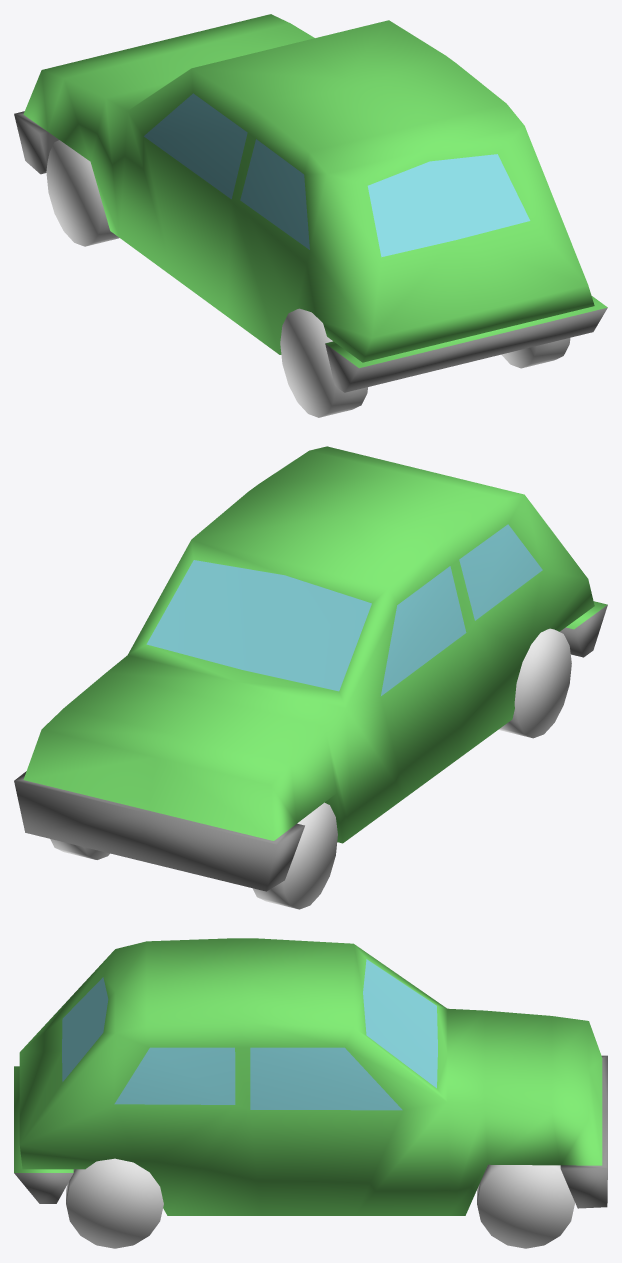
The model's file is car.gltf.
3 renders of one model, top to bottom at view 1: azimuth 30°, elevation 25°; view 2: azimuth 150°, elevation 25°; view 3: azimuth 270°, elevation 25°, orthographic. The views are drawn at different scales.
Visible parts, largest first — view 1: 0-base, 3-back-left-wheel, 1-front-left-wheel, 4-back-right-wheel; view 2: 0-base, 3-back-left-wheel, 1-front-left-wheel; view 3: 0-base, 4-back-right-wheel, 2-front-right-wheel.
Part boxes in pixels (x1,y1,x2,y2): 0-base: [14, 14, 607, 392]; 3-back-left-wheel: [280, 308, 367, 417]; 1-front-left-wheel: [46, 140, 119, 246]; 4-back-right-wheel: [501, 338, 570, 368]; 0-base: [14, 446, 607, 891]; 3-back-left-wheel: [499, 628, 571, 738]; 1-front-left-wheel: [252, 802, 337, 909]; 0-base: [14, 938, 607, 1215]; 4-back-right-wheel: [66, 1158, 163, 1248]; 2-front-right-wheel: [477, 1164, 574, 1248].
Bounding box in the file's own units: 1.58 × 1.41 × 3.48.
